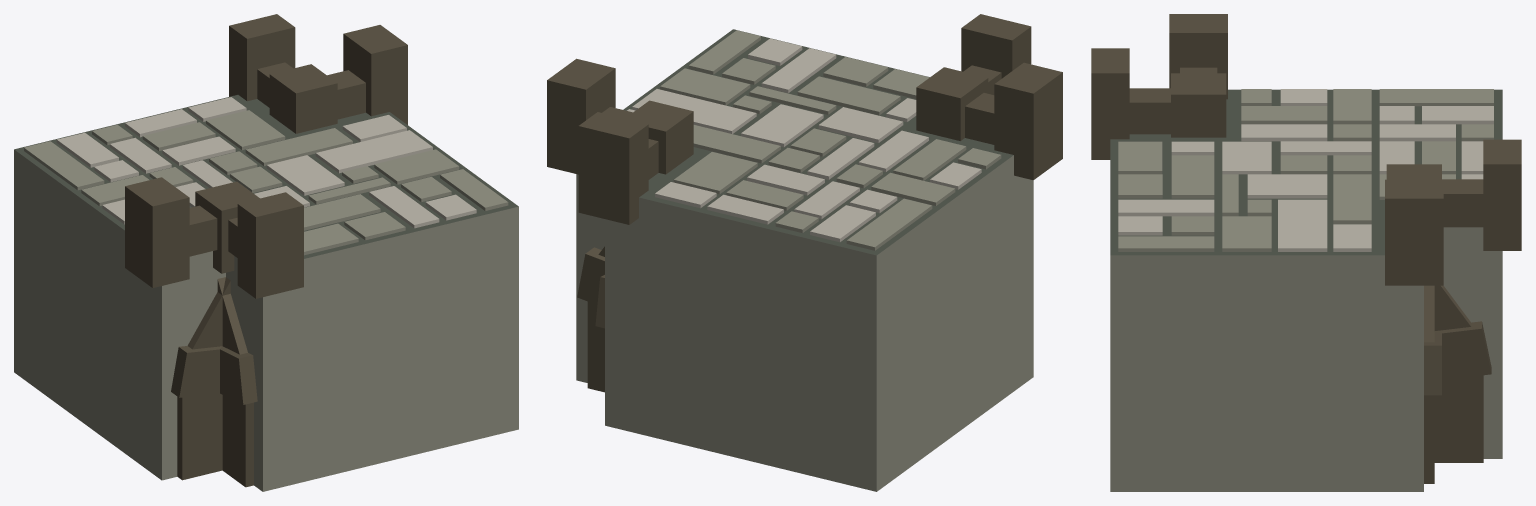
The model's file is FourWayHalfFilled.fbx.
3 renders of one model, left to right at view 1: azimuth 30°, elevation 25°; view 2: azimuth 150°, elevation 25°; view 3: azimuth 270°, elevation 25°, orthographic. The views are drawn at different scales.
Parts seen in each view (by area): view 1: Stone Bridge - Four-way Half Filled; view 2: Stone Bridge - Four-way Half Filled; view 3: Stone Bridge - Four-way Half Filled.
Part boxes in pixels (x1,y1,x2,y2): Stone Bridge - Four-way Half Filled: [14, 14, 518, 491]; Stone Bridge - Four-way Half Filled: [547, 14, 1062, 491]; Stone Bridge - Four-way Half Filled: [1091, 14, 1521, 491].
Bounding box in the file's own units: 112 × 85.16 × 110.
